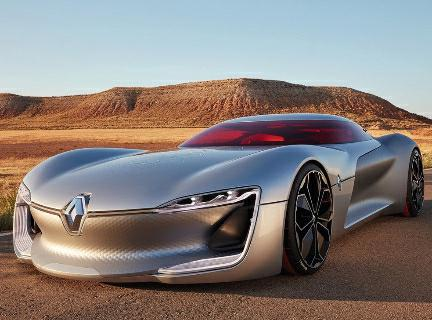雷诺-TREZOR: (8, 110, 428, 293)
